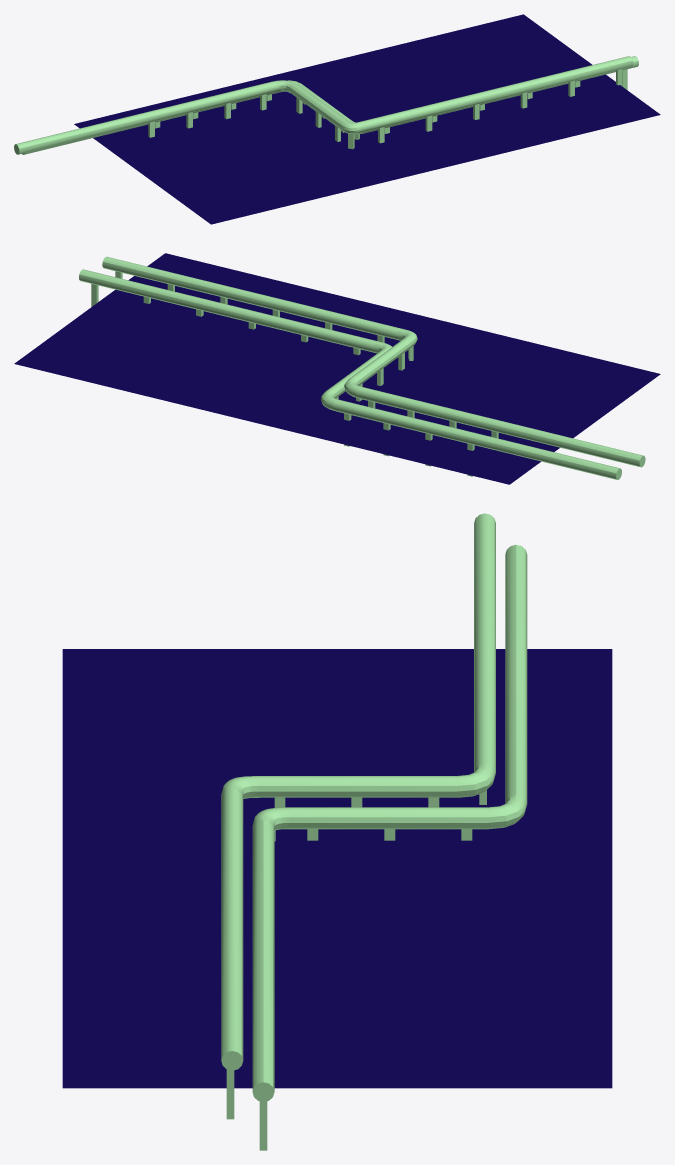
Rendered from floor2.glb.
3 renders of one model, top to bottom at view 1: azimuth 30°, elevation 25°; view 2: azimuth 150°, elevation 25°; view 3: azimuth 270°, elevation 25°, orthographic. The views are drawn at different scales.
Visible parts, largest first — view 1: floor2; view 2: floor2; view 3: floor2.
Boxes of the visible parts, x1,y1,x2,y2 form: floor2: (14, 14, 660, 224); floor2: (14, 253, 660, 484); floor2: (62, 513, 612, 1150).
Size of the model in its own units: 154 by 12.51 by 65.
